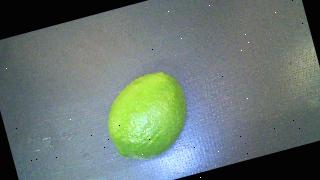EXPORTACION: (97, 67, 198, 167)
